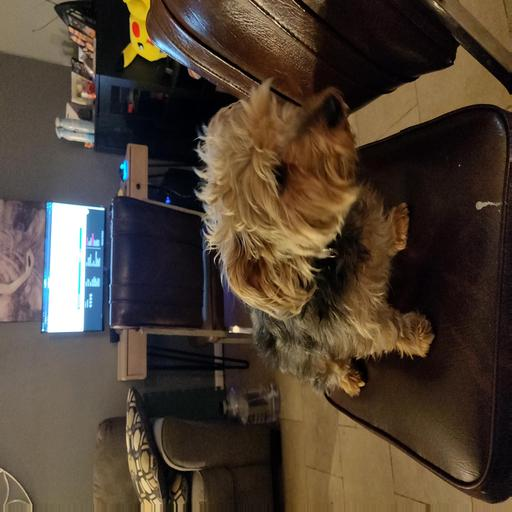dog: (158, 74, 452, 368)
